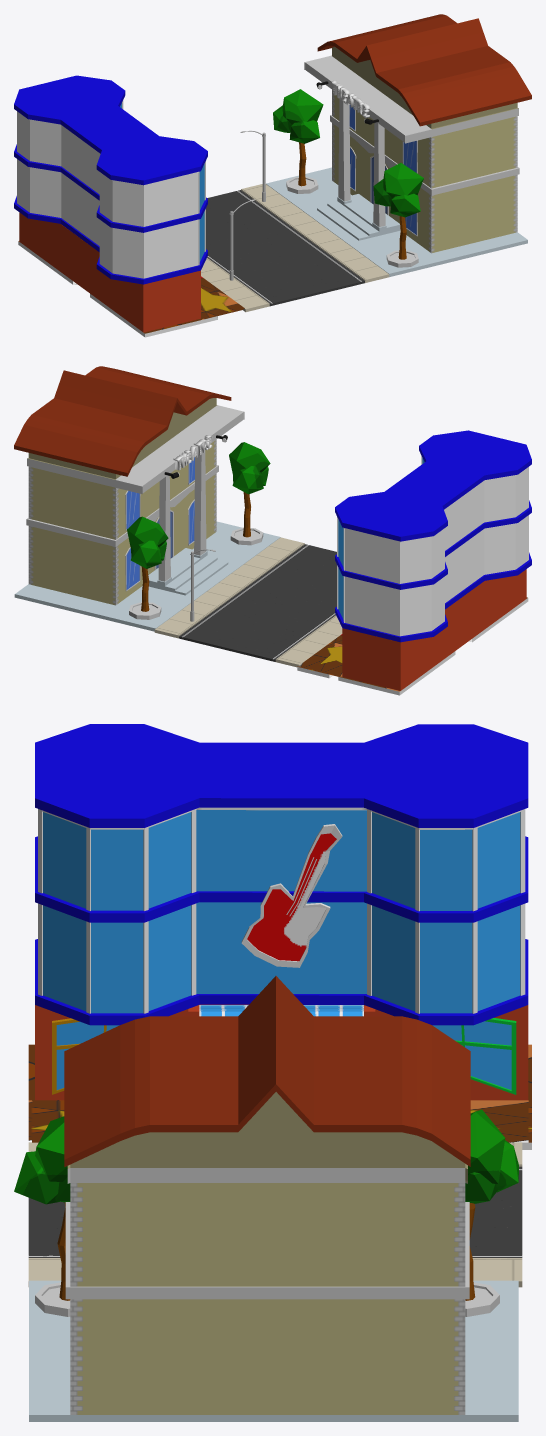
Rendered from CityPt3.fbx.
3 renders of one model, top to bottom at view 1: azimuth 30°, elevation 25°; view 2: azimuth 150°, elevation 25°; view 3: azimuth 270°, elevation 25°, orthographic. The views are drawn at different scales.
Parts seen in each view (by area): view 1: Ed06, Ed07, StreetCo.002; view 2: Ed06, Ed07, StreetCo.002; view 3: Ed06, Ed07, StreetCo.002.
Boxes of the visible parts, left/top/right/bottom form: Ed06: left=266, top=14, right=531, bottom=276; Ed07: left=14, top=75, right=244, bottom=337; StreetCo.002: left=201, top=184, right=389, bottom=312; Ed06: left=14, top=366, right=280, bottom=631; Ed07: left=297, top=430, right=531, bottom=695; StreetCo.002: left=154, top=537, right=342, bottom=667; Ed06: left=14, top=976, right=518, bottom=1421; Ed07: left=28, top=724, right=531, bottom=1149; StreetCo.002: left=28, top=1142, right=522, bottom=1287.
Bounding box in the file's own units: 28.91 × 11.79 × 15.74.
